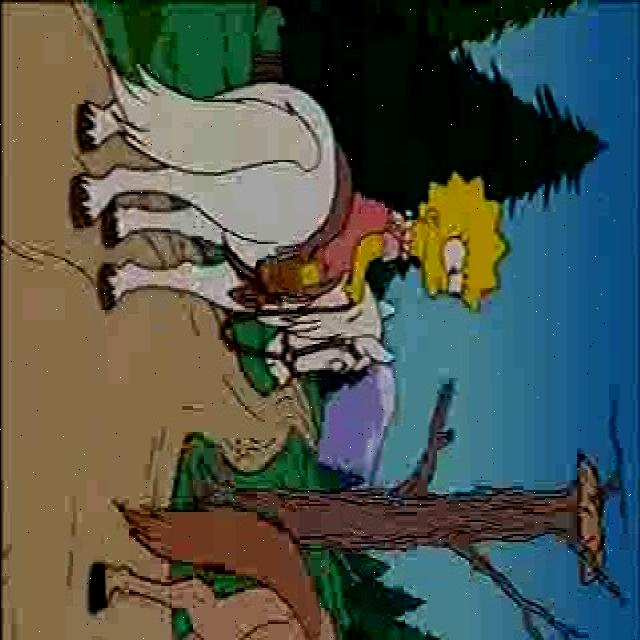Lisa Simpson: (402, 175, 510, 309)
